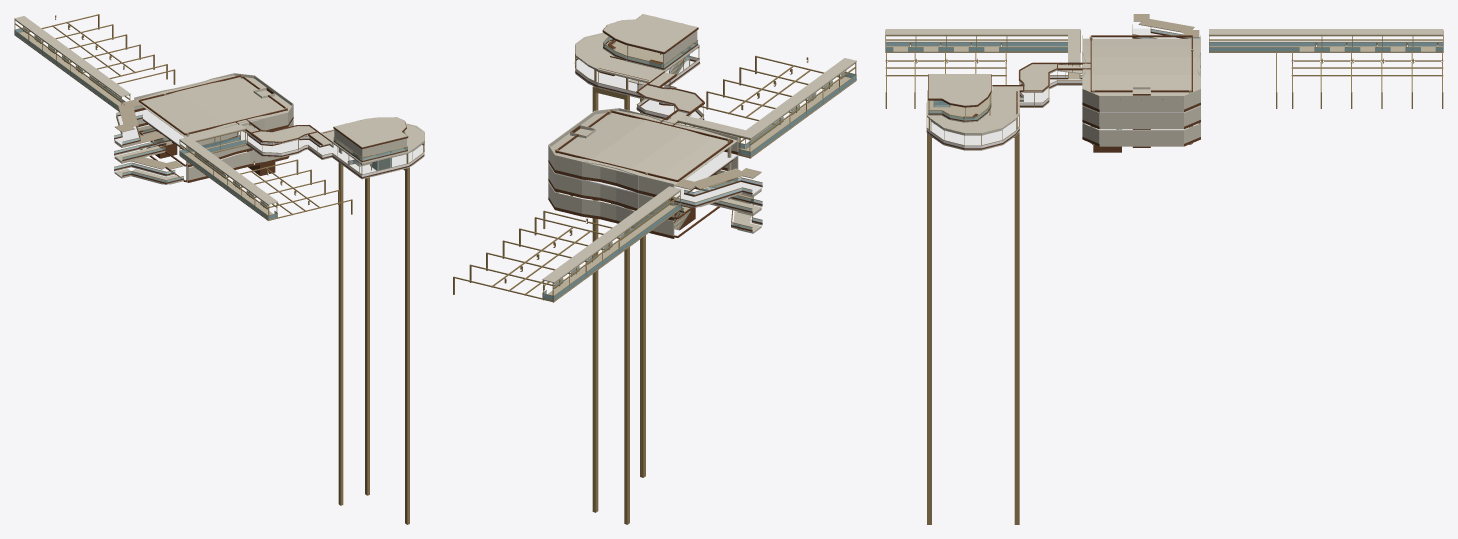
File: BoundedIntegratedContext.glb
The picture shows the model from 3 angles, left to right: view 1: azimuth 30°, elevation 25°; view 2: azimuth 150°, elevation 25°; view 3: azimuth 270°, elevation 25°; orthographic projection. The views are drawn at different scales.
Parts seen in each view (by area): view 1: CR_Batch_D17_RoyaltyPier_WestFore_champagne_metal, CR_Batch_D17_RoyaltyPier_Aft_champagne_metal, HC_TopCeiling_2, CR_Batch_D17_RoyaltyPier_Fore_champagne_metal, RG_UpperRoof, HC_TopCeiling_3, HC_TopCeiling_1, _MeshInstance3D_5, HC_TopCeiling_0, CR_Batch_royalty_ivory_enamel, CR_Batch_court_ivory_enamel, SBS_Roof0_000_0 (+3 smaller); view 2: HC_TopCeiling_2, RG_UpperRoof, CR_Batch_royalty_ivory_enamel, CR_Batch_D17_RoyaltyPier_Fore_champagne_metal, HC_TopCeiling_1, HC_TopCeiling_3, CR_Batch_D17_RoyaltyPier_WestFore_champagne_metal, _MeshInstance3D_5, CR_Batch_D17_RoyaltyPier_Aft_champagne_metal, HC_TopCeiling_0, SBS_Roof0_000_0, CR_Batch_court_ivory_enamel (+13 smaller); view 3: CR_Batch_D17_RoyaltyPier_Fore_champagne_metal, CR_Batch_royalty_ivory_enamel, HC_TopCeiling_2, CR_Batch_D17_RoyaltyPier_Aft_champagne_metal, HC_TopCeiling_3, RG_UpperRoof, HC_RearWall_D17, HC_RearWall_D15, HC_RearWall_D16, HC_TopCeiling_1, SBS_Roof0_001_0, SBS_Fore_Outer_001_0 (+7 smaller).
Part boxes in pixels (x1,y1,x2,y2): CR_Batch_D17_RoyaltyPier_WestFore_champagne_metal: (338,163,343,500); CR_Batch_D17_RoyaltyPier_Aft_champagne_metal: (405,171,409,523); HC_TopCeiling_2: (175,81,260,127); CR_Batch_D17_RoyaltyPier_Fore_champagne_metal: (365,177,369,493); RG_UpperRoof: (334,117,407,147); HC_TopCeiling_3: (208,75,284,119); HC_TopCeiling_1: (151,89,226,132); _MeshInstance3D_5: (114,109,292,149); HC_TopCeiling_0: (136,95,202,137); CR_Batch_royalty_ivory_enamel: (320,123,424,179); CR_Batch_court_ivory_enamel: (253,126,319,157); SBS_Roof0_000_0: (14,16,120,96); HC_TopCeiling_2: (587,117,688,173); RG_UpperRoof: (603,14,697,52); CR_Batch_royalty_ivory_enamel: (574,32,699,99); CR_Batch_D17_RoyaltyPier_Fore_champagne_metal: (592,92,598,510); HC_TopCeiling_1: (627,127,717,179); HC_TopCeiling_3: (558,111,649,163); CR_Batch_D17_RoyaltyPier_WestFore_champagne_metal: (624,98,629,518); _MeshInstance3D_5: (548,151,762,204); CR_Batch_D17_RoyaltyPier_Aft_champagne_metal: (640,98,645,475); HC_TopCeiling_0: (657,134,737,187); SBS_Roof0_000_0: (542,189,681,282); CR_Batch_court_ivory_enamel: (636,85,702,120); CR_Batch_D17_RoyaltyPier_Fore_champagne_metal: (1014,138,1019,523); CR_Batch_royalty_ivory_enamel: (926,90,1019,150); HC_TopCeiling_2: (1082,57,1200,74); CR_Batch_D17_RoyaltyPier_Aft_champagne_metal: (927,138,931,523); HC_TopCeiling_3: (1083,75,1200,90); RG_UpperRoof: (928,74,990,105); HC_RearWall_D17: (1099,95,1183,112); HC_RearWall_D15: (1099,130,1183,146); HC_RearWall_D16: (1099,113,1183,129); HC_TopCeiling_1: (1082,46,1200,57); SBS_Roof0_001_0: (1209,29,1442,35); SBS_Fore_Outer_001_0: (1209,42,1442,46).
Size of the model in its own units: 68.08 by 113 by 133.
47 materials, 29 textured.
